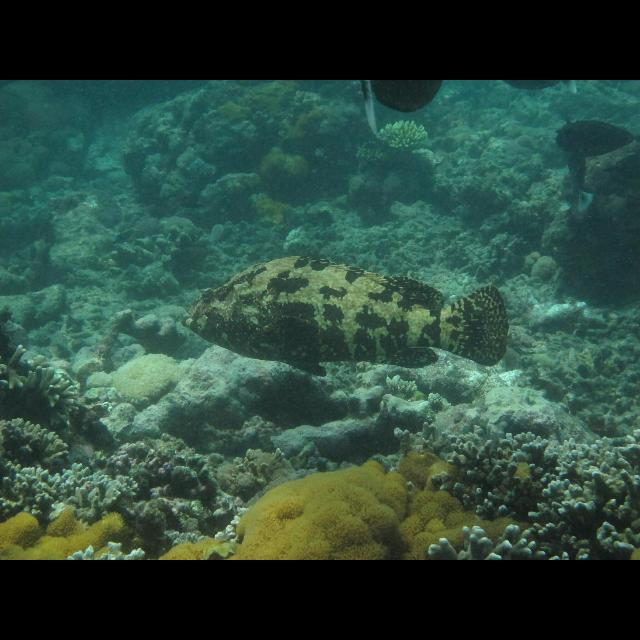Groupers: (181, 249, 511, 377)
